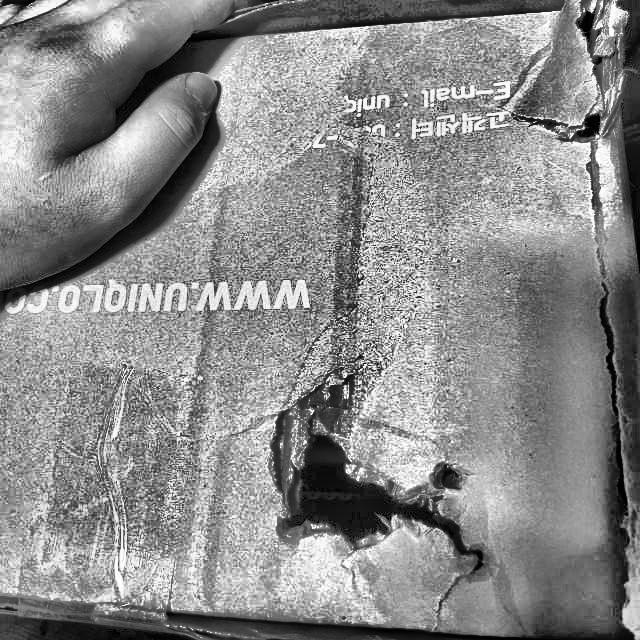box: (3, 0, 639, 639)
hole: (259, 417, 491, 567), (536, 9, 640, 142)
